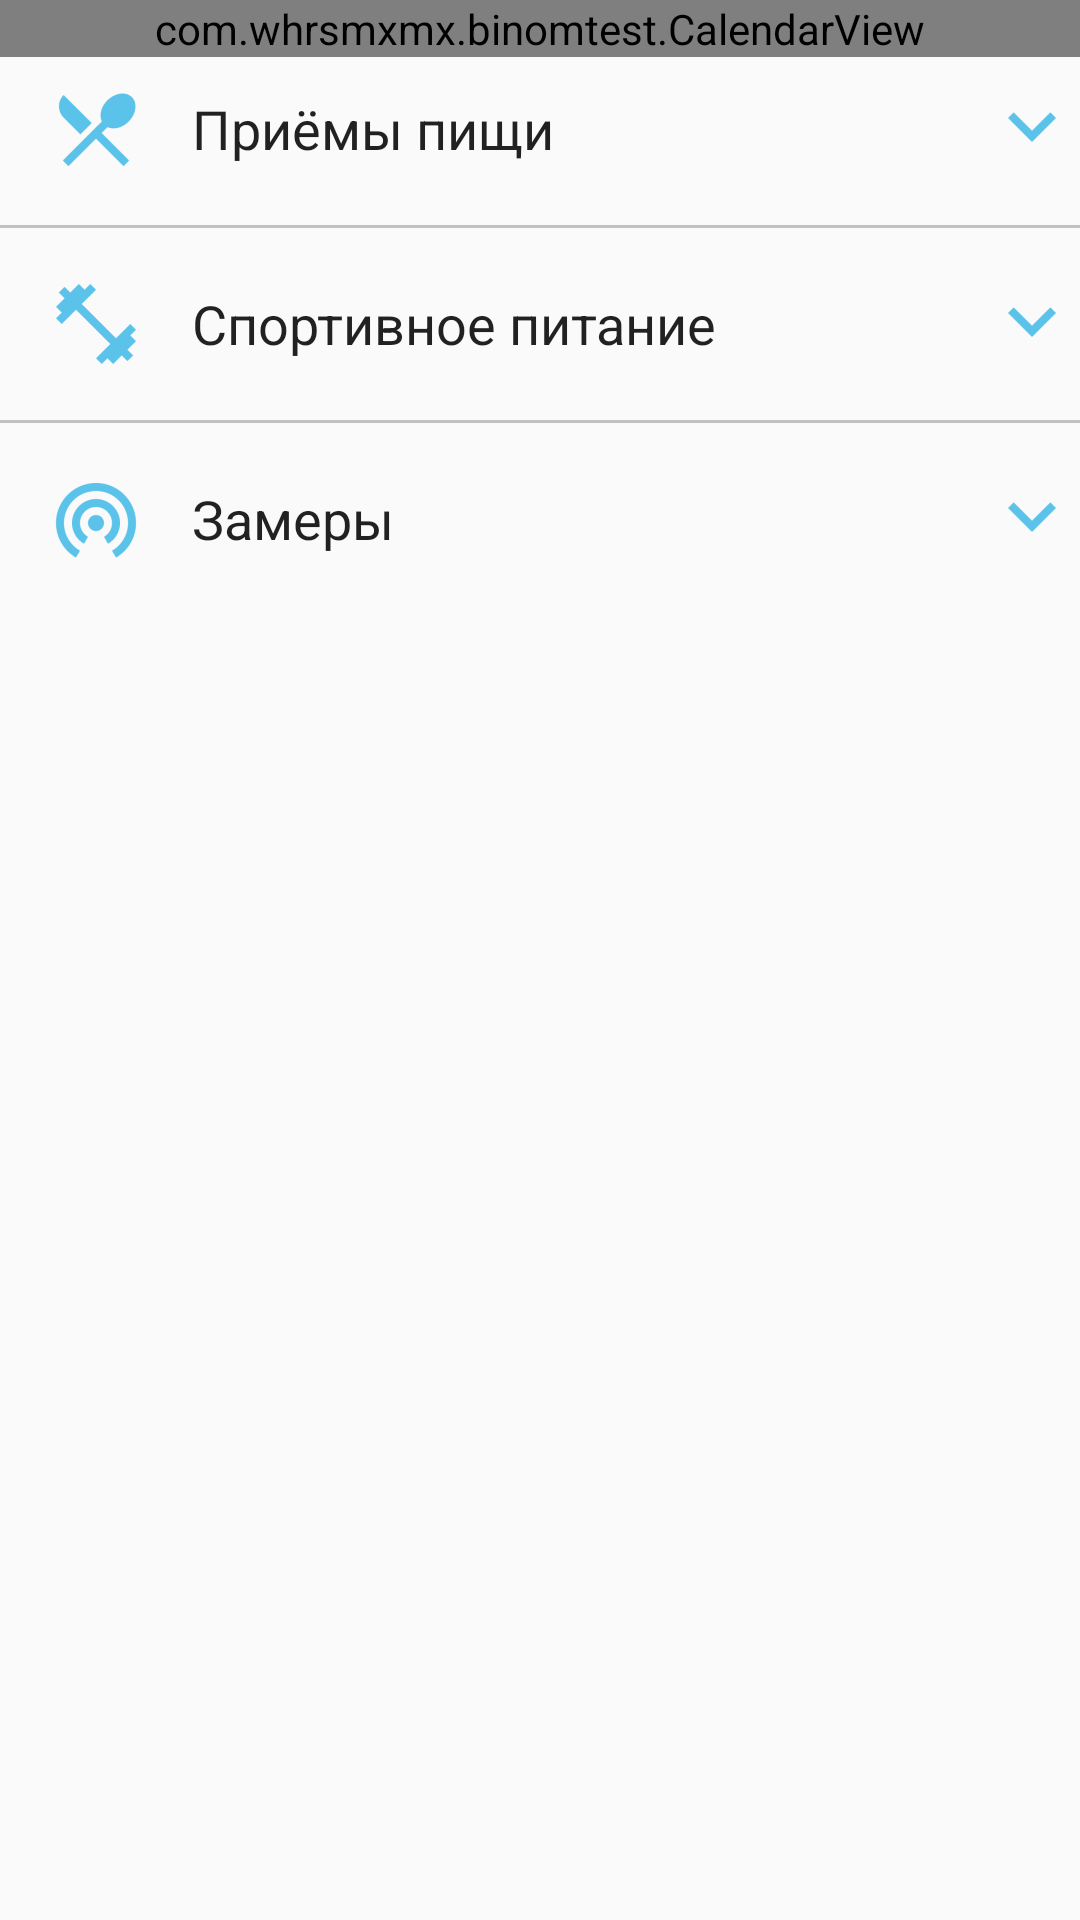

Icons on this 1080px x 1920px Android screen, each with the point to tap as [x,y]:
down: [1032,127], [1032,322], [1032,517]
food: [97,129]
sport: [96,324]
